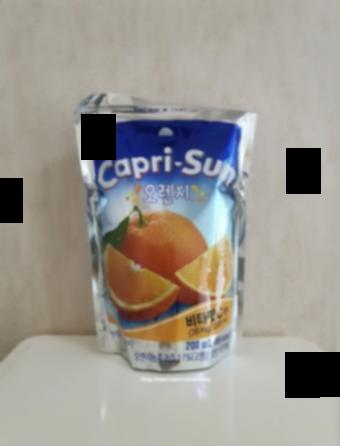cafrisun: (77, 90, 248, 369)
